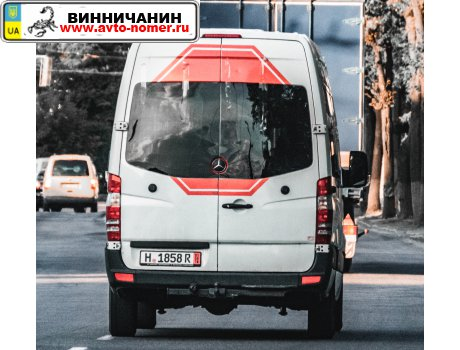License Plates: (141, 252, 195, 263)
